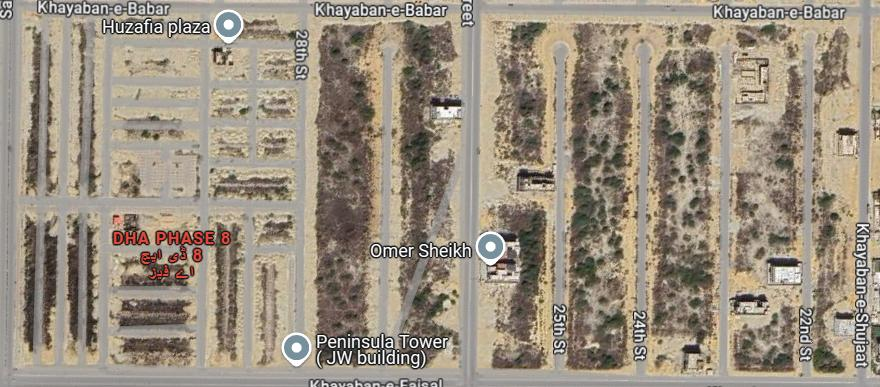Buildings: (477, 18, 552, 366), (732, 18, 803, 371), (307, 16, 379, 361), (647, 19, 717, 370), (395, 16, 461, 372), (568, 17, 635, 365), (813, 13, 859, 371), (20, 11, 103, 200), (111, 210, 198, 366), (15, 207, 101, 363), (208, 205, 247, 371), (109, 150, 200, 197), (256, 256, 291, 365), (209, 168, 294, 202), (211, 13, 296, 43), (114, 50, 200, 77), (117, 15, 202, 38), (251, 212, 296, 250), (114, 84, 203, 101), (114, 106, 200, 122), (210, 51, 253, 83), (209, 88, 248, 123), (258, 127, 299, 160), (208, 127, 251, 157), (257, 48, 294, 82), (258, 90, 297, 119)
